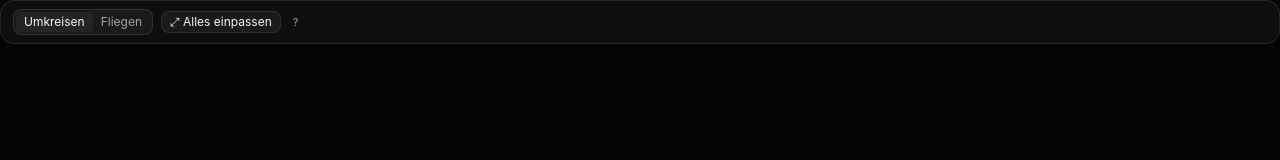
it: Gehirn bei 390 px › Hilfe-Leiste bei schmal: Tasten eingeklappt hinter „?“ (schmal bricht sie um statt abzuschneiden)
This screenshot has width=1280, height=160.
Click the button named "tastenhilfe zeigen".
click(296, 22)  # box x1=289 y1=15 x2=302 y2=29
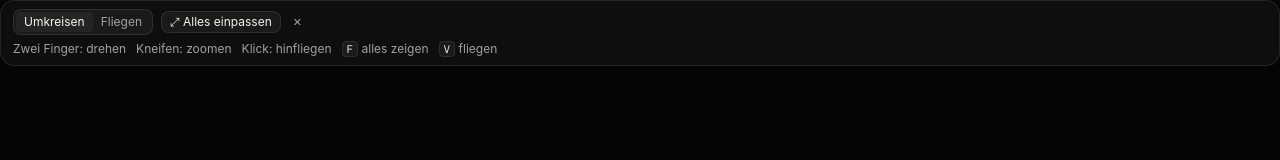
Now the element with test id "brain-3d-keys" is shown, box x1=13 y1=41 x2=497 y2=57
